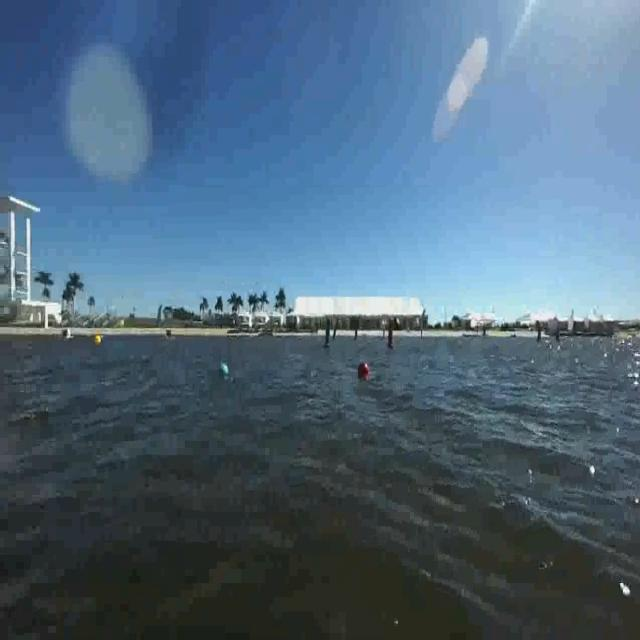green-buoy: (220, 361, 228, 382)
green-column-buoy: (326, 321, 334, 351)
red-buoy: (358, 362, 368, 376)
yellow-buoy: (95, 334, 103, 348)
